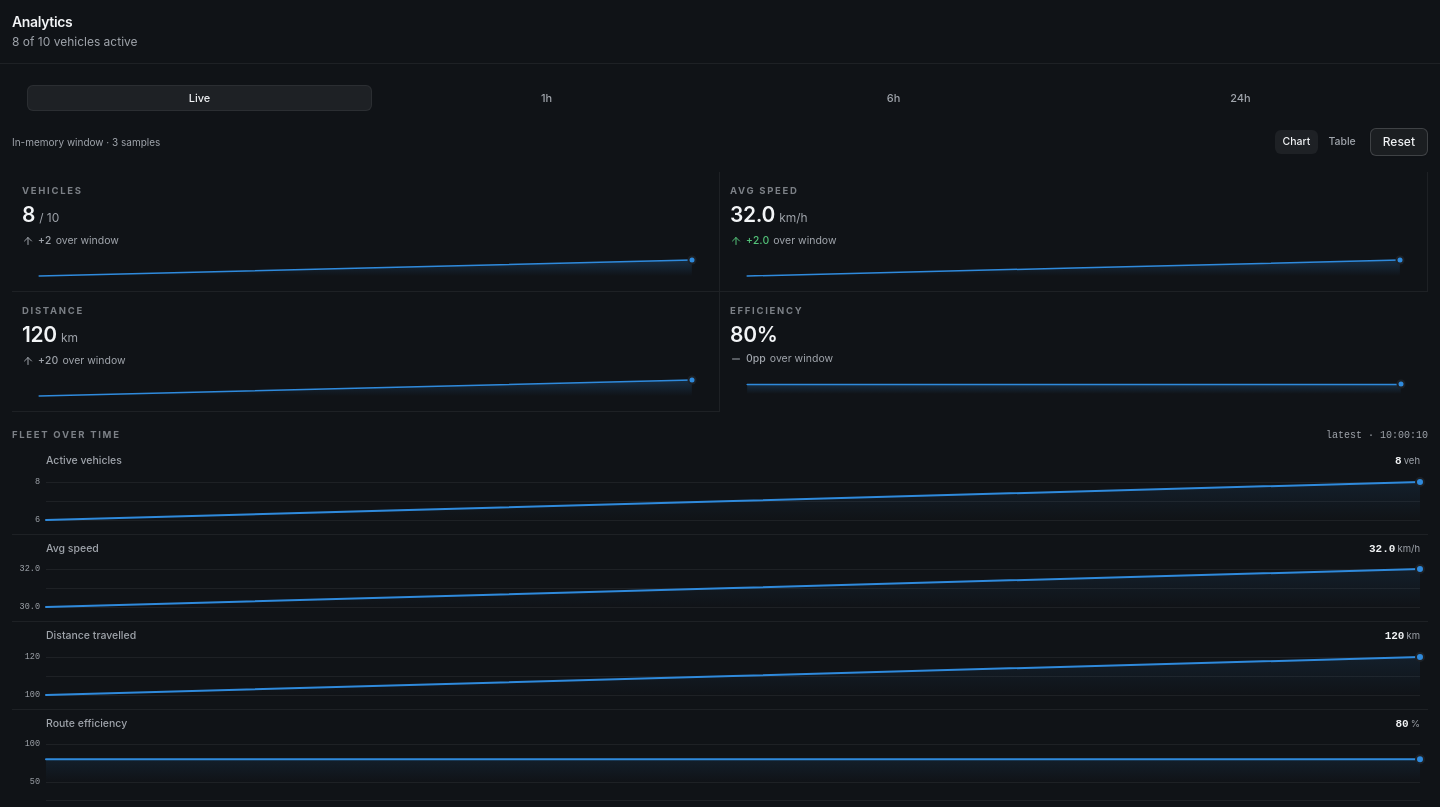
Test: AnalyticsPanel — live window › offers a table view of the same series
Click the button "table" at (1342, 142), box [1320,130,1364,154]
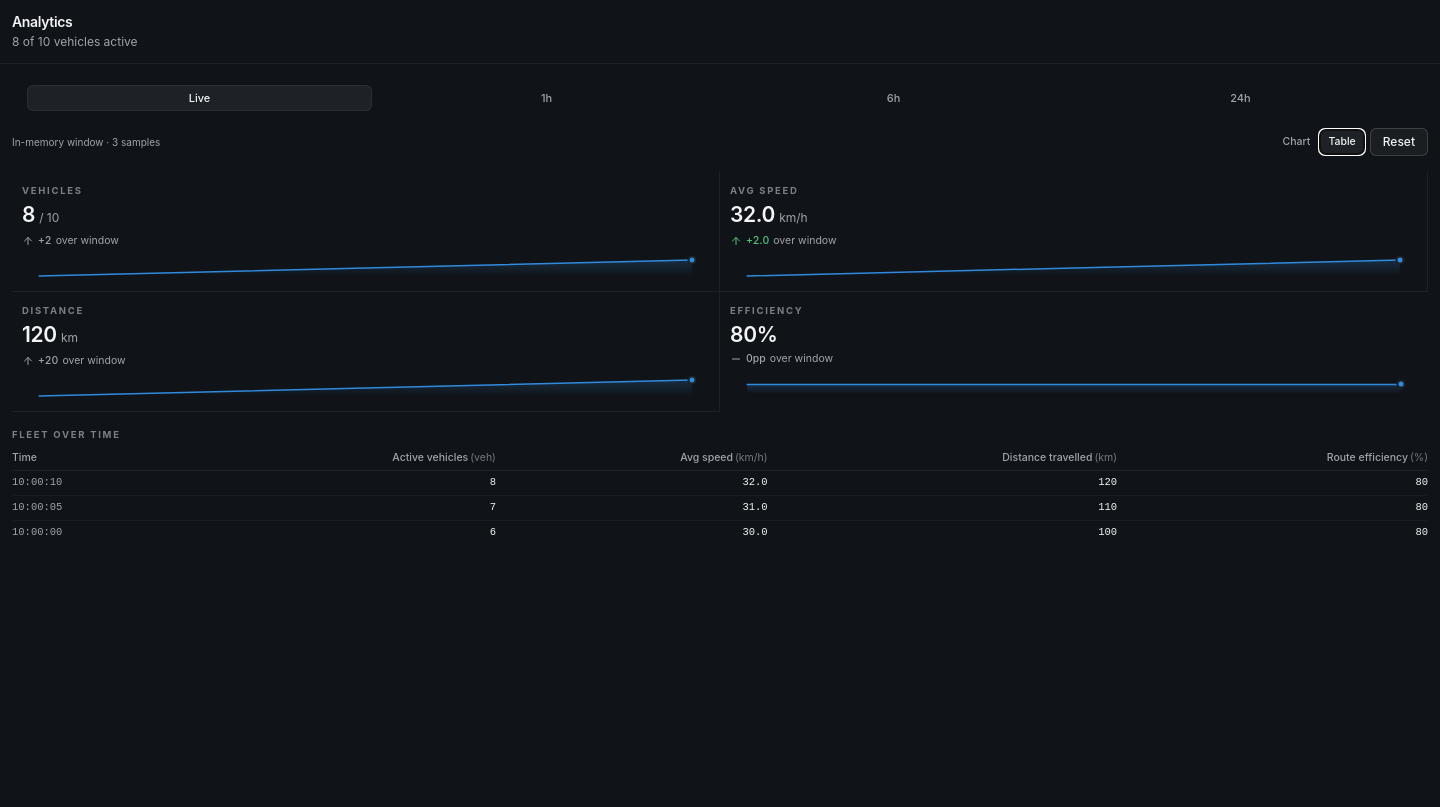
Check: the element with test id "facet-speed" is gone
Check: the number of rows is 4, box [12,446,1428,471]; [12,471,1428,495]; [12,495,1428,520]; [12,520,1428,544]
Check: the row "10:00:10 8 32.0 120 80" is shown, box [12,471,1428,495]
